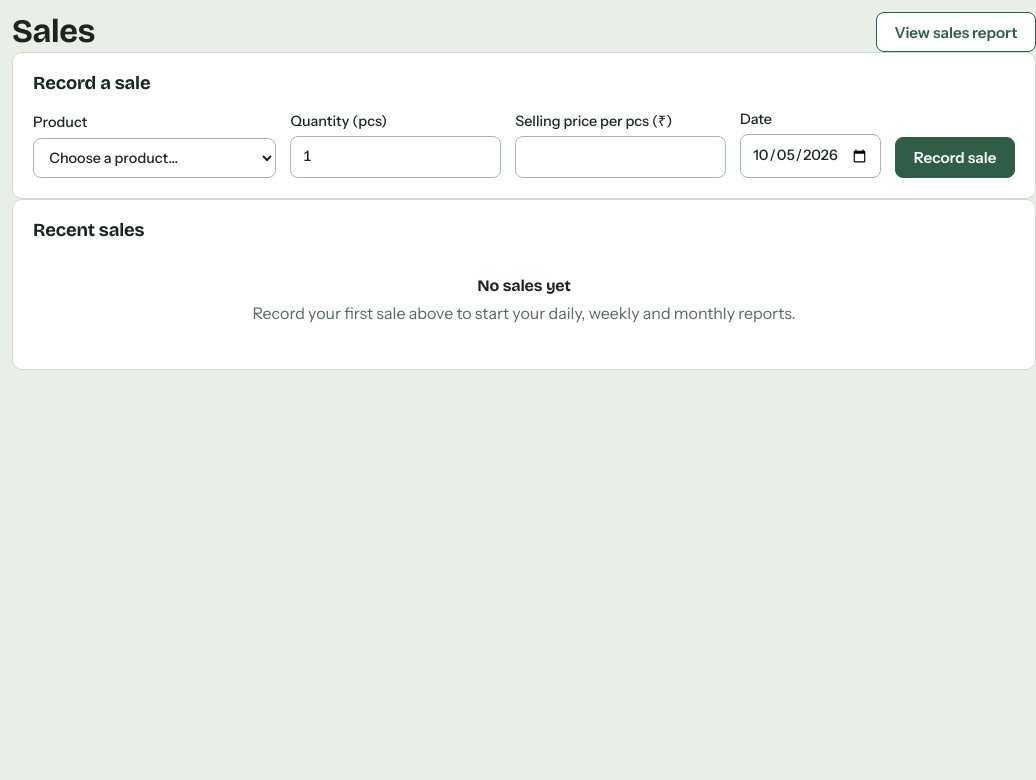
server errors appear on the form
Select "Cake" in the dropdown labelled "Product" at x=155, y=158, box top-left (33, 138), bottom-right (276, 178)
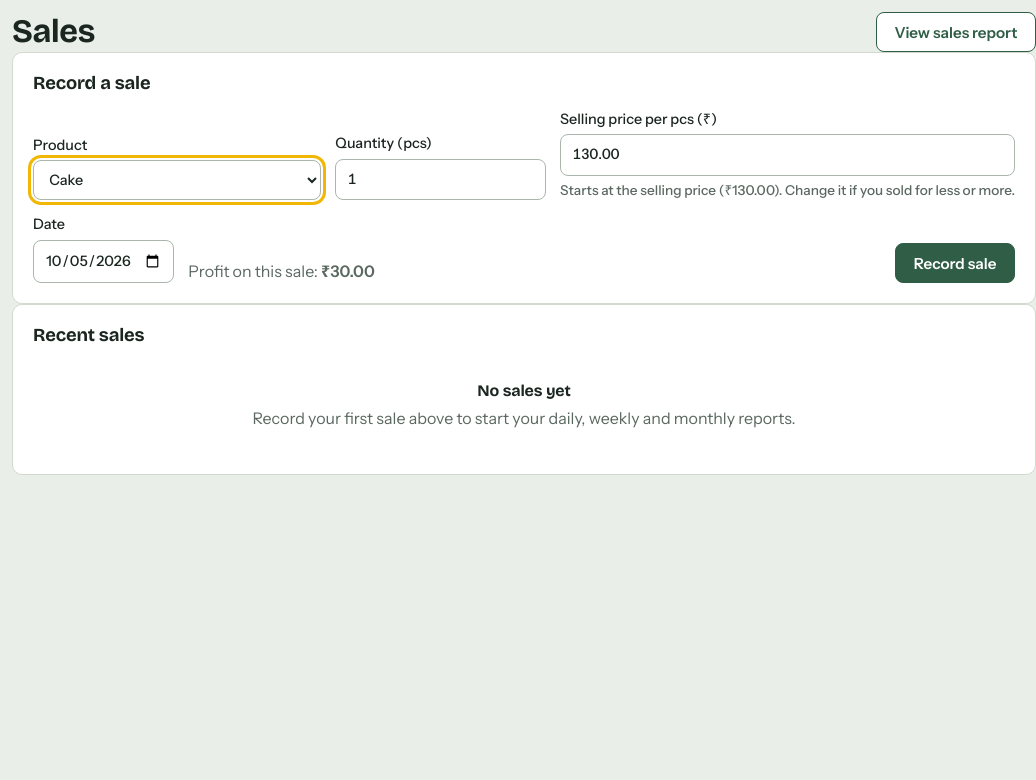
Replace the text in the number field labelled "Selling price" with "10" at x=788, y=155, box top-left (560, 134), bottom-right (1015, 176)
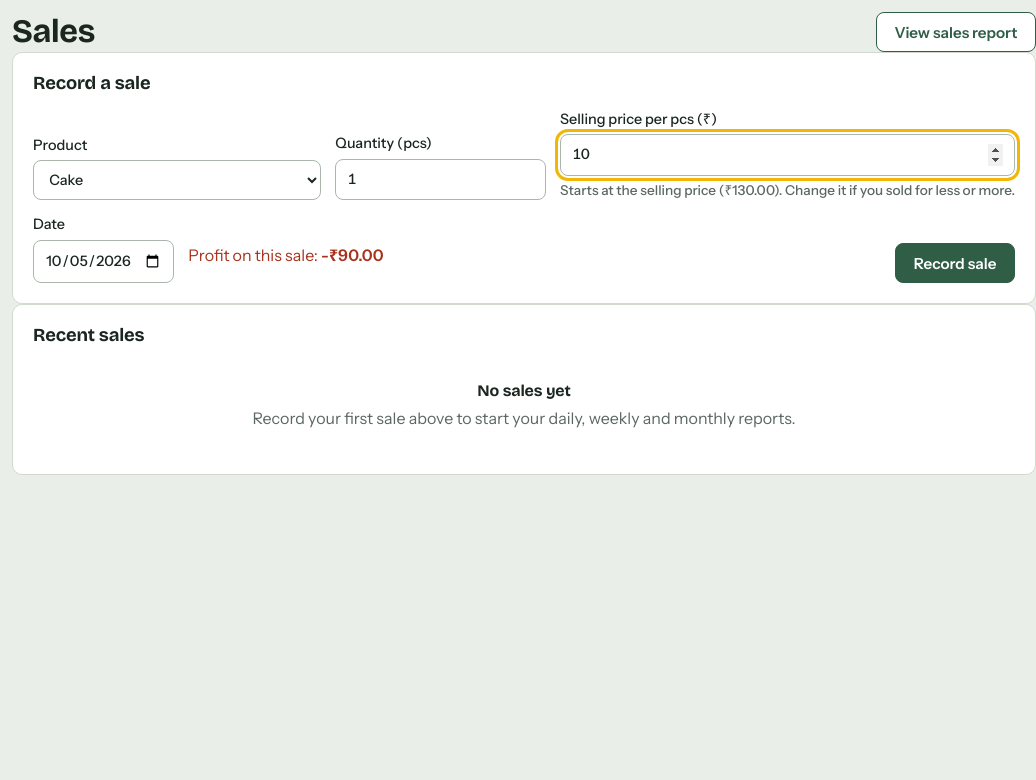
Click the button "Record sale" at x=955, y=263, box top-left (895, 243), bottom-right (1015, 283)
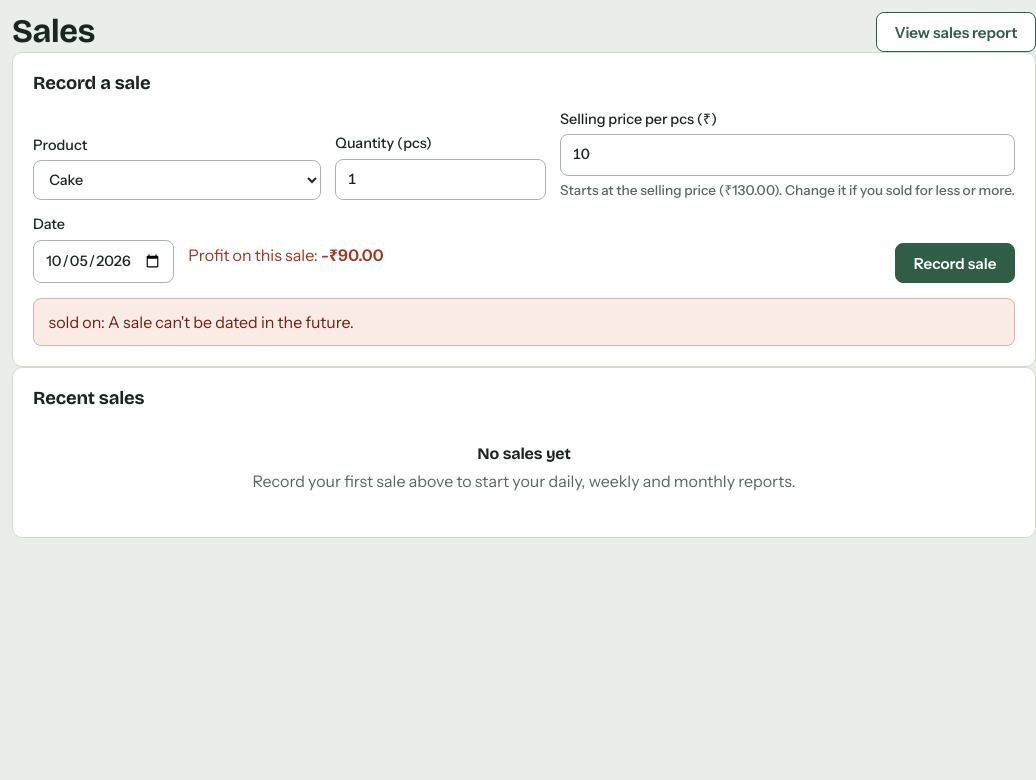
Check: the message shows "future", box top-left (48, 312), bottom-right (354, 332)
